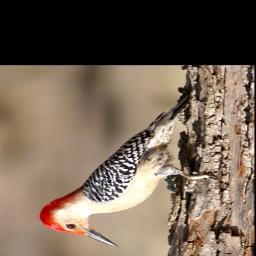Woodpecker: (34, 93, 221, 248)
